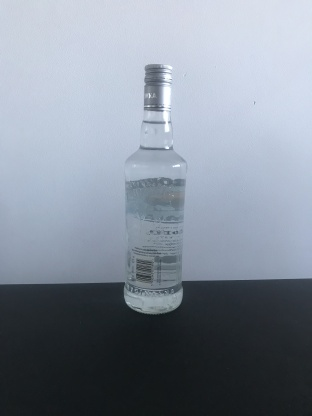nakretka: (142, 61, 173, 114)
